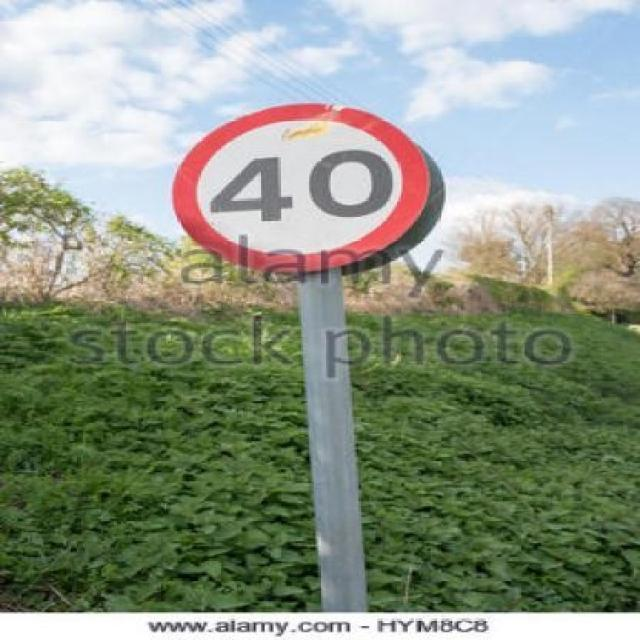forb_speed_over_40: (175, 103, 427, 269)
